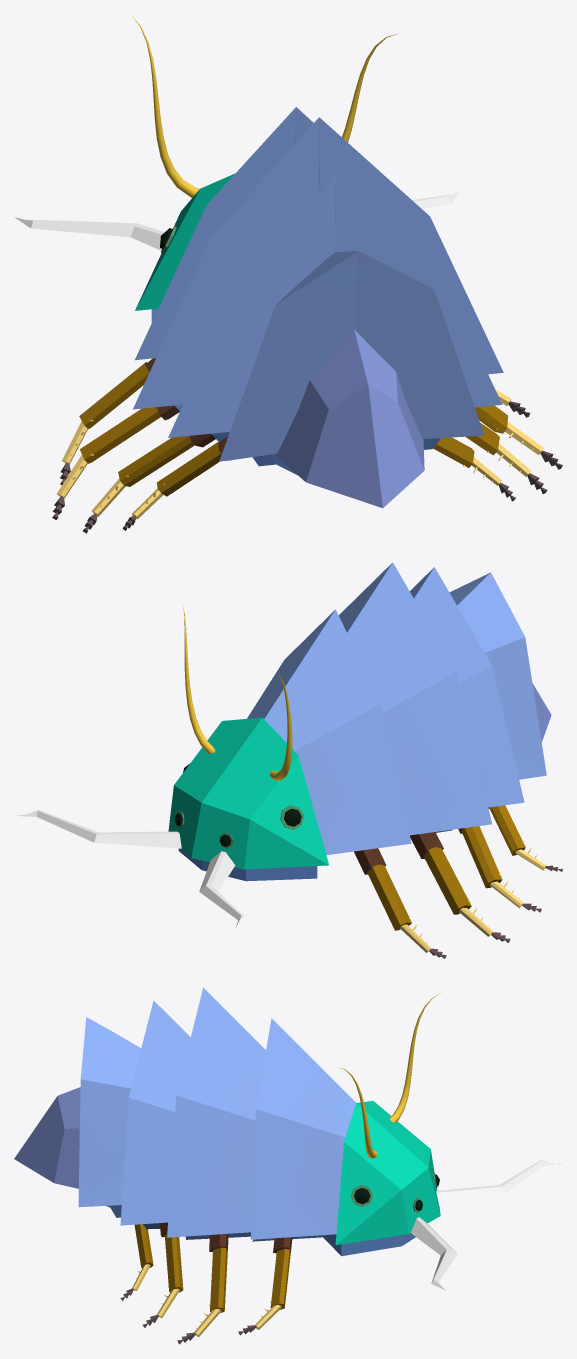
3 renders of one model, top to bottom at view 1: azimuth 30°, elevation 25°; view 2: azimuth 150°, elevation 25°; view 3: azimuth 270°, elevation 25°, orthographic. The views are drawn at different scales.
Parts seen in each view (by area): view 1: Head; view 2: Head; view 3: Head.
Boxes of the visible parts, box(x1,y1,x2,y2) form: Head: box(14, 16, 562, 533); Head: box(14, 562, 562, 958); Head: box(14, 987, 562, 1344).
Size of the model in its own units: 0.9929 by 0.7194 by 1.26.
Materials: 1 (1 with a texture image).
